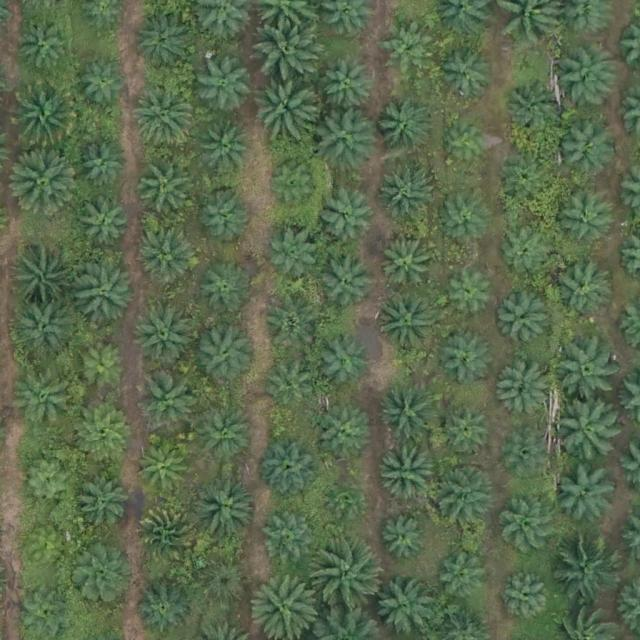Healthy: (552, 398, 623, 469), (552, 538, 622, 609), (314, 541, 384, 612), (11, 83, 81, 153), (9, 145, 79, 215), (260, 439, 323, 502), (70, 544, 133, 607), (74, 400, 137, 463), (134, 82, 197, 145), (194, 319, 257, 382), (257, 22, 320, 85), (317, 109, 380, 172), (550, 263, 613, 326), (560, 464, 622, 527), (431, 464, 493, 527), (377, 443, 440, 505), (193, 474, 255, 537), (16, 299, 78, 362), (14, 371, 76, 434), (76, 260, 138, 323), (136, 368, 198, 431), (138, 226, 200, 289), (193, 403, 255, 466), (253, 74, 315, 137), (377, 294, 439, 357), (379, 381, 441, 444), (436, 44, 498, 107), (505, 78, 567, 141), (560, 341, 622, 404), (374, 578, 436, 640), (133, 306, 195, 368), (557, 49, 619, 111), (199, 117, 254, 173), (503, 501, 558, 556), (498, 570, 553, 625), (437, 547, 492, 602), (194, 558, 249, 613), (263, 514, 318, 569), (72, 474, 127, 529), (135, 443, 190, 498), (138, 582, 193, 637), (15, 259, 70, 314), (77, 337, 132, 392), (79, 139, 134, 194), (139, 19, 194, 74), (199, 61, 254, 116), (198, 189, 253, 244), (198, 264, 253, 319), (263, 359, 318, 414), (265, 161, 320, 216), (269, 229, 324, 284), (265, 300, 320, 355), (323, 61, 378, 116), (318, 193, 373, 248), (321, 256, 376, 311), (316, 337, 371, 392), (381, 21, 436, 76), (379, 102, 434, 157), (379, 168, 434, 223), (440, 404, 495, 459), (440, 331, 495, 386), (437, 189, 492, 244), (502, 155, 557, 210), (499, 228, 554, 283), (498, 296, 553, 351), (559, 123, 614, 178), (556, 193, 611, 248), (20, 18, 74, 73), (76, 58, 130, 113), (77, 198, 131, 253), (138, 163, 192, 218), (320, 409, 374, 464), (381, 239, 435, 294), (445, 266, 499, 321), (497, 364, 551, 419)
Small: (21, 456, 76, 511), (444, 122, 491, 170), (381, 515, 428, 563), (506, 432, 553, 480), (325, 480, 364, 520)
Yellow: (139, 504, 201, 566), (16, 526, 70, 581)
